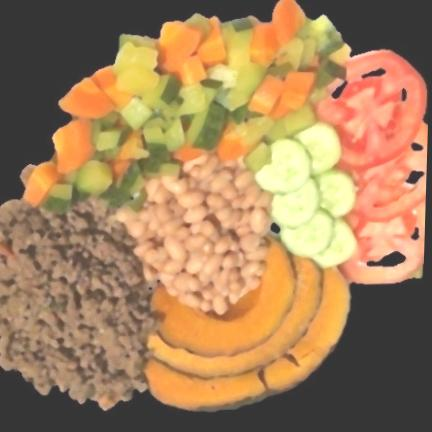beans: (120, 156, 271, 312)
carrot: (25, 66, 131, 205)
cucumber: (255, 122, 357, 266)
green_vegetables: (44, 14, 349, 211)
meat: (0, 197, 156, 409)
